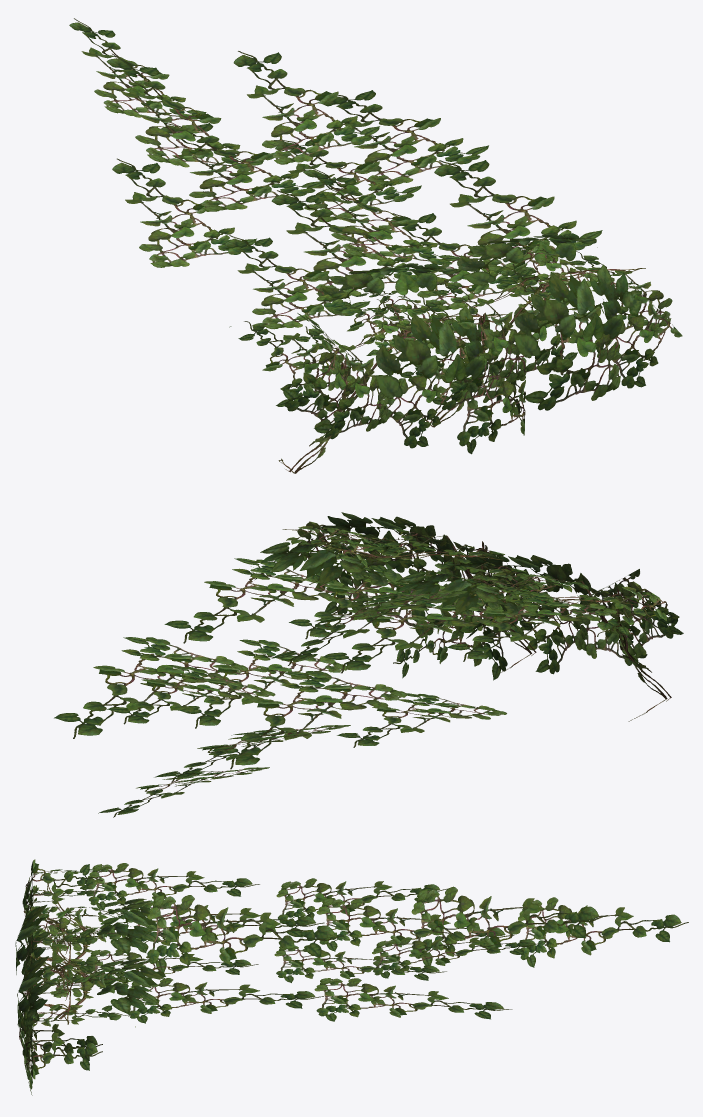
File: huodong_fuben_362_grass01.obj
3 views of the same model, one above another, from view 1: azimuth 30°, elevation 25°; view 2: azimuth 150°, elevation 25°; view 3: azimuth 270°, elevation 25° (orthographic). The views are drawn at different scales.
Visible parts, largest first — view 1: dongfang_yewai_357_grass01; view 2: dongfang_yewai_357_grass01; view 3: dongfang_yewai_357_grass01.
Boxes of the visible parts, left/top/right/bottom form: dongfang_yewai_357_grass01: left=69, top=18, right=682, bottom=473; dongfang_yewai_357_grass01: left=54, top=512, right=683, bottom=817; dongfang_yewai_357_grass01: left=15, top=859, right=688, bottom=1095.
Bounding box in the file's own units: 414 × 166 × 685.
Materials: 1 (1 with a texture image).
